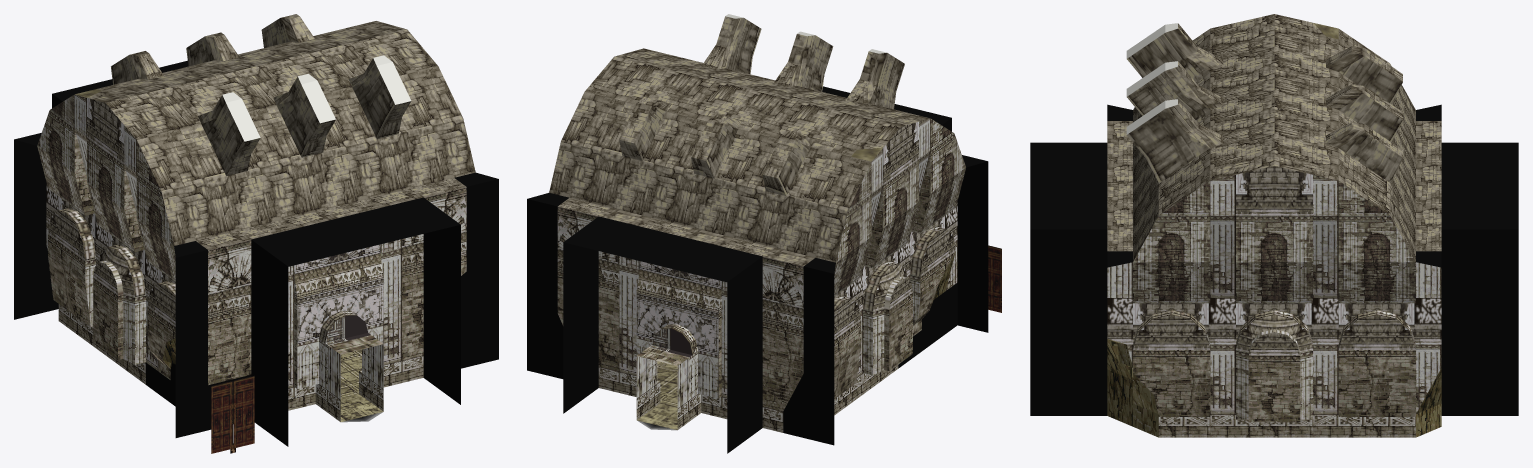
The model's file is MAP061.obj.
3 renders of one model, left to right at view 1: azimuth 30°, elevation 25°; view 2: azimuth 150°, elevation 25°; view 3: azimuth 270°, elevation 25°, orthographic. The views are drawn at different scales.
Visible parts, largest first — view 1: mesh_35, mesh_45, mesh_46, mesh_74, mesh_66, mesh_44, mesh_24, mesh_69, mesh_67, mesh_26, mesh_28, mesh_33 (+20 smaller); view 2: mesh_35, mesh_43, mesh_74, mesh_46, mesh_66, mesh_13, mesh_44, mesh_69, mesh_47, mesh_15, mesh_67, mesh_17 (+14 smaller); view 3: mesh_35, mesh_59, mesh_43, mesh_45, mesh_74, mesh_23, mesh_61, mesh_21, mesh_60, mesh_22, mesh_65, mesh_48 (+7 smaller).
Boxes of the visible parts, x1=… form: mesh_35: x1=87, y1=21, x2=475, y2=249; mesh_45: x1=251, y1=197, x2=460, y2=446; mesh_46: x1=14, y1=133, x2=207, y2=437; mesh_74: x1=111, y1=14, x2=411, y2=175; mesh_66: x1=37, y1=94, x2=175, y2=364; mesh_44: x1=454, y1=172, x2=498, y2=366; mesh_24: x1=288, y1=232, x2=466, y2=421; mesh_69: x1=48, y1=98, x2=175, y2=326; mesh_67: x1=48, y1=234, x2=175, y2=379; mesh_26: x1=294, y1=244, x2=383, y2=343; mesh_28: x1=208, y1=254, x2=466, y2=388; mesh_33: x1=46, y1=94, x2=158, y2=370; mesh_35: x1=549, y1=48, x2=929, y2=266; mesh_43: x1=563, y1=216, x2=762, y2=453; mesh_74: x1=619, y1=16, x2=904, y2=195; mesh_46: x1=783, y1=155, x2=988, y2=445; mesh_66: x1=834, y1=118, x2=965, y2=375; mesh_13: x1=557, y1=249, x2=803, y2=432; mesh_44: x1=527, y1=193, x2=568, y2=378; mesh_69: x1=834, y1=121, x2=955, y2=339; mesh_47: x1=557, y1=291, x2=803, y2=411; mesh_15: x1=636, y1=261, x2=721, y2=355; mesh_67: x1=834, y1=251, x2=955, y2=370; mesh_17: x1=557, y1=206, x2=803, y2=376; mesh_35: x1=1107, y1=14, x2=1441, y2=261; mesh_59: x1=1133, y1=181, x2=1415, y2=419; mesh_43: x1=1441, y1=142, x2=1518, y2=415; mesh_45: x1=1030, y1=142, x2=1107, y2=415; mesh_74: x1=1127, y1=23, x2=1402, y2=182; mesh_23: x1=1107, y1=175, x2=1441, y2=413; mesh_61: x1=1133, y1=166, x2=1415, y2=355; mesh_21: x1=1107, y1=298, x2=1441, y2=344; mesh_60: x1=1133, y1=350, x2=1415, y2=422; mesh_22: x1=1158, y1=414, x2=1415, y2=437; mesh_65: x1=1171, y1=373, x2=1415, y2=416; mesh_48: x1=1210, y1=367, x2=1338, y2=414.
Size of the model in its own units: 192 by 172 by 243.
Materials: 18 (18 with a texture image).
